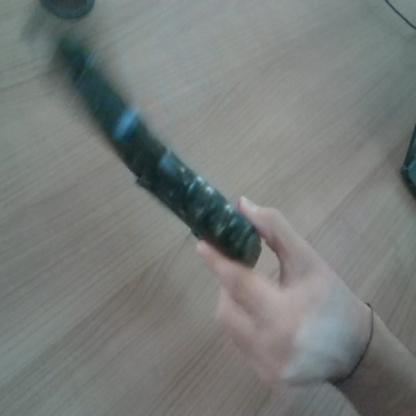handgun: (42, 22, 287, 281)
